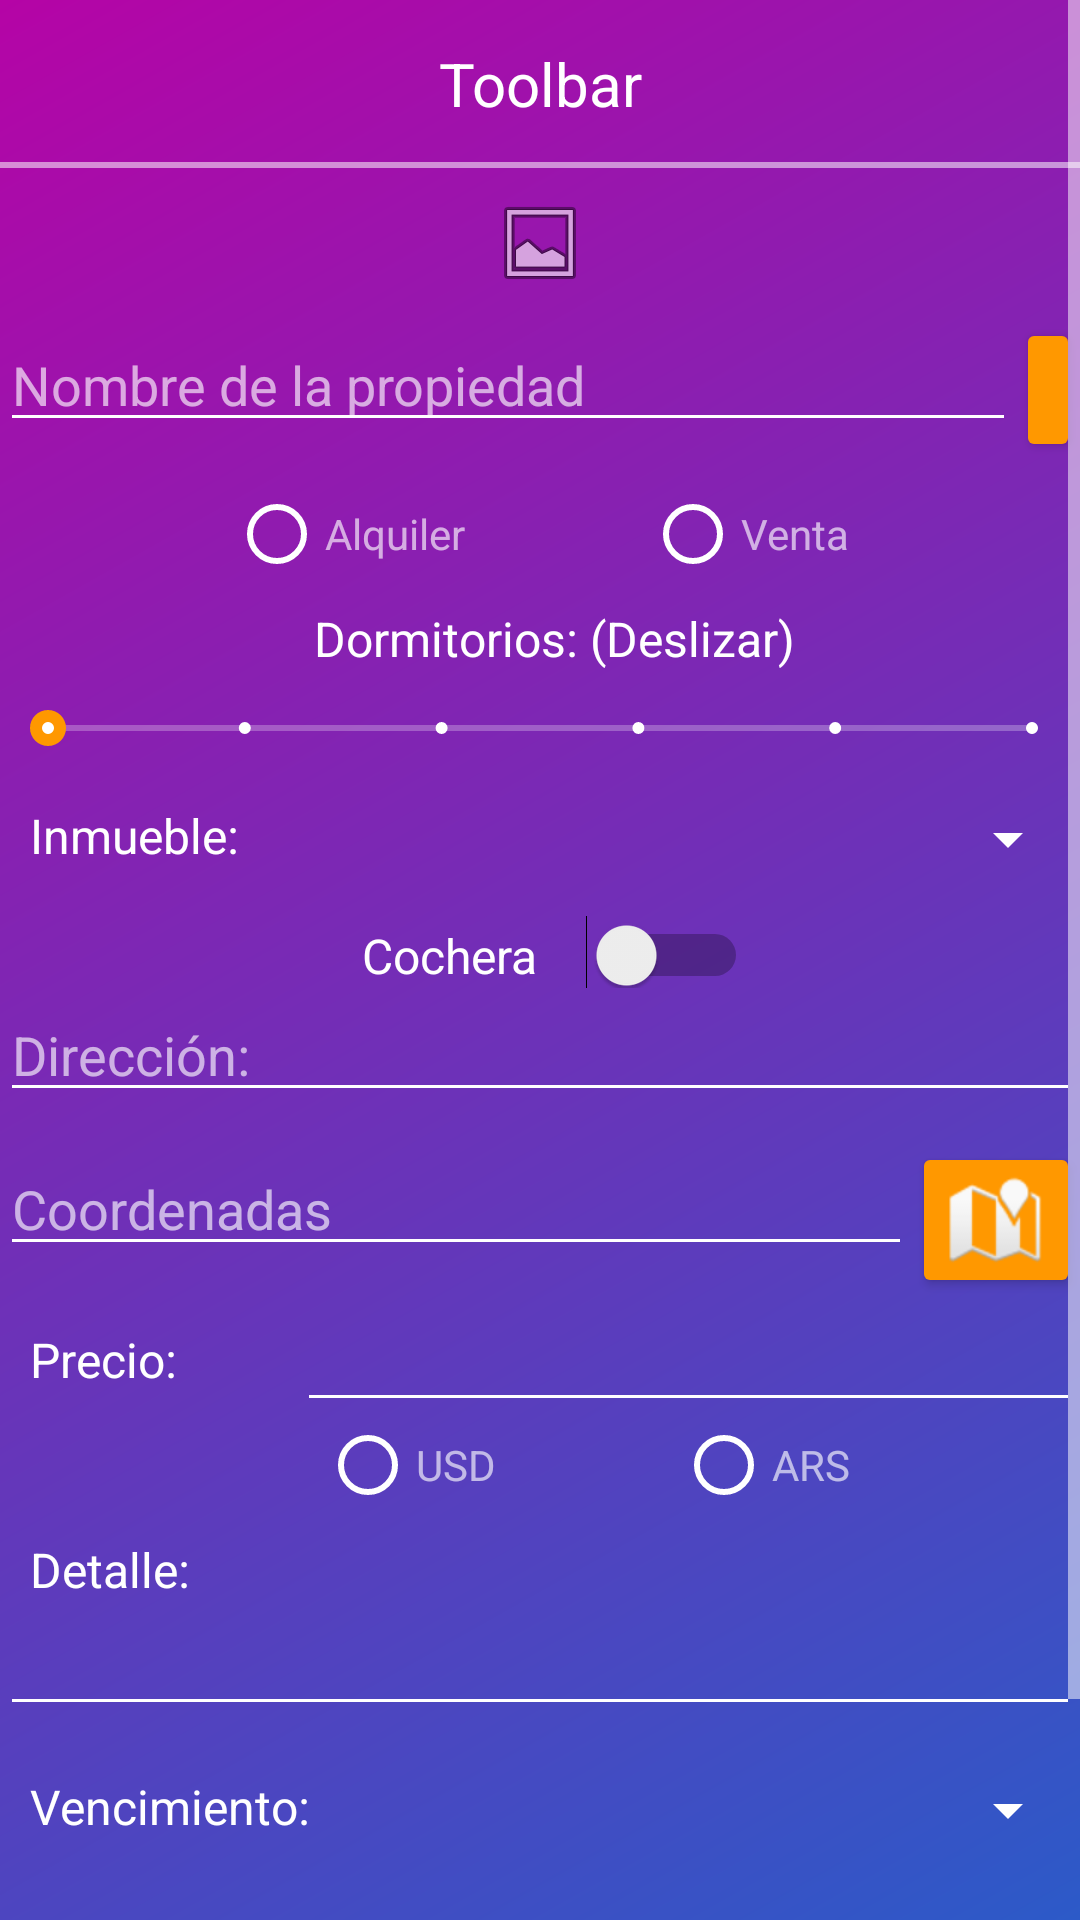

Screen size 1080×1920. Icon name, then its box in pixels as (x1, y1, x2, y2):
gallery: (504, 207, 576, 279)
map: (924, 1142, 1080, 1298)
